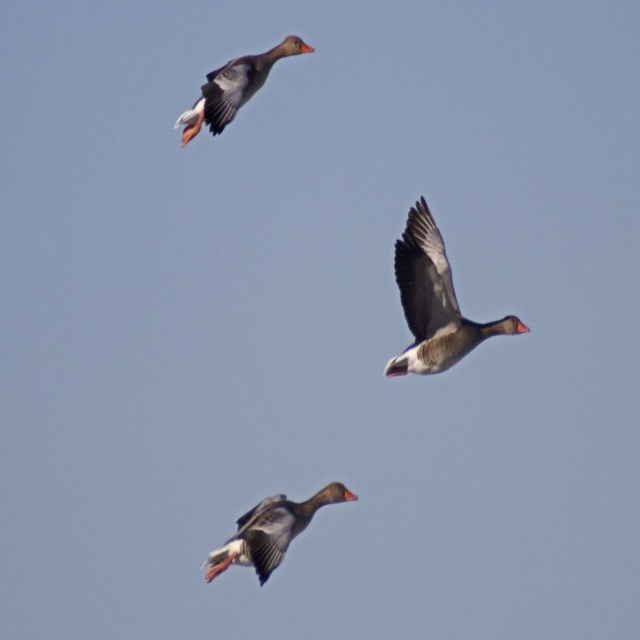Duck: (381, 185, 532, 383), (212, 475, 364, 595), (168, 34, 314, 140)
